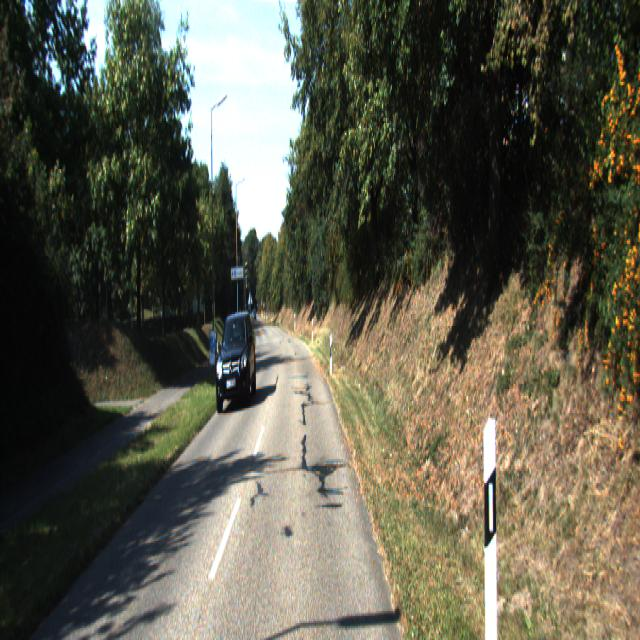Car: (215, 309, 257, 415)
